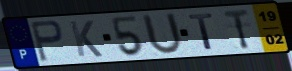5: (108, 15, 146, 59)
K: (67, 19, 105, 58)
P: (28, 19, 66, 63)
T: (222, 8, 251, 51), (186, 11, 216, 51)
U: (139, 12, 185, 57)
